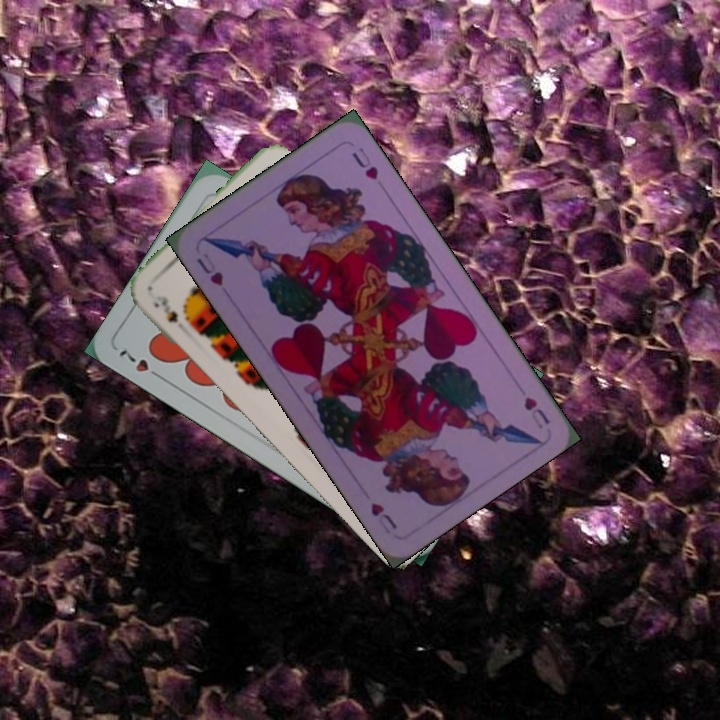H7: (115, 346, 166, 383)
HU: (519, 393, 553, 431), (192, 253, 226, 289)
S9: (149, 291, 181, 326)
